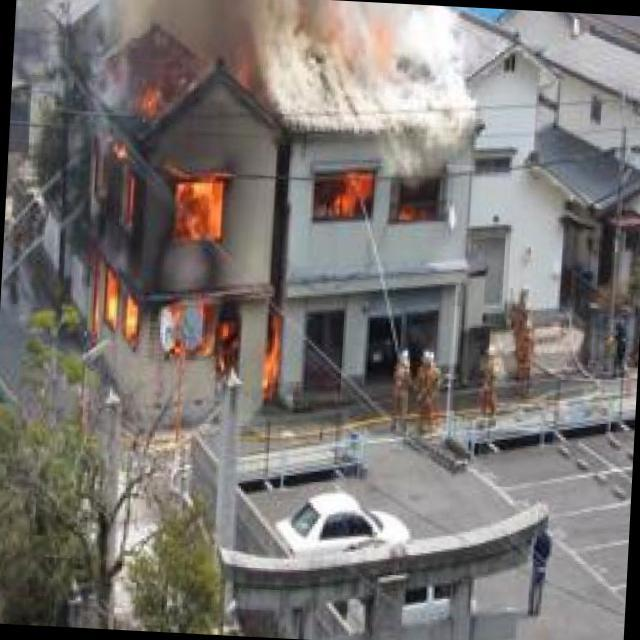Fire: (50, 89, 299, 400), (297, 154, 423, 244)
